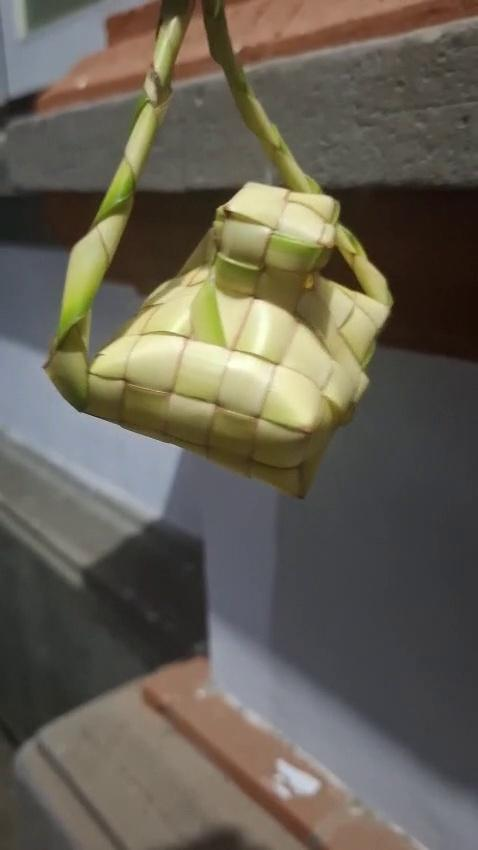Tipat Gong: (42, 0, 401, 506)
